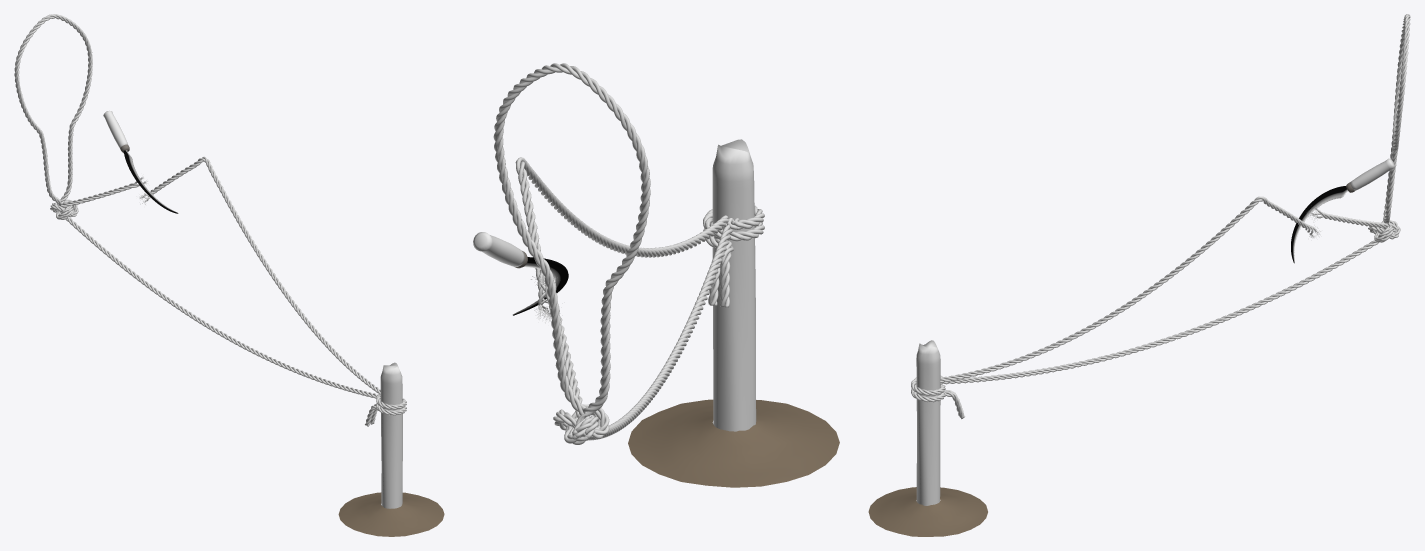
File: PR_Tether.fbx
The picture shows the model from 3 angles, left to right: view 1: azimuth 30°, elevation 25°; view 2: azimuth 150°, elevation 25°; view 3: azimuth 270°, elevation 25°; orthographic projection. The views are drawn at different scales.
Parts seen in each view (by area): view 1: Peg earth, Tether rope, Peg, Tether loop (cut), Tether lead (cut); view 2: Peg earth, Tether rope, Peg, Tether loop (cut), Tether lead (cut), Sickle handle, Sickle blade; view 3: Peg earth, Tether rope, Peg, Tether lead (cut), Tether loop (cut), Sickle blade.
Boxes of the visible parts, <box> form: Peg earth: <box>338,492,444,536</box>; Tether rope: <box>14,14,406,426</box>; Peg: <box>380,362,402,508</box>; Tether loop (cut): <box>14,14,139,219</box>; Tether lead (cut): <box>143,156,406,424</box>; Peg earth: <box>628,399,839,487</box>; Tether rope: <box>493,63,764,443</box>; Peg: <box>712,139,756,431</box>; Tether loop (cut): <box>494,63,650,444</box>; Tether lead (cut): <box>515,157,764,308</box>; Sickle handle: <box>473,232,524,266</box>; Sickle blade: <box>512,257,568,315</box>; Peg earth: <box>868,487,987,536</box>; Tether rope: <box>911,14,1410,415</box>; Peg: <box>916,340,940,505</box>; Tether lead (cut): <box>911,196,1316,419</box>; Tether loop (cut): <box>1313,15,1410,242</box>; Sickle blade: <box>1291,186,1347,263</box>.
Size of the model in its own units: 0.6969 by 1.22 by 1.36.
